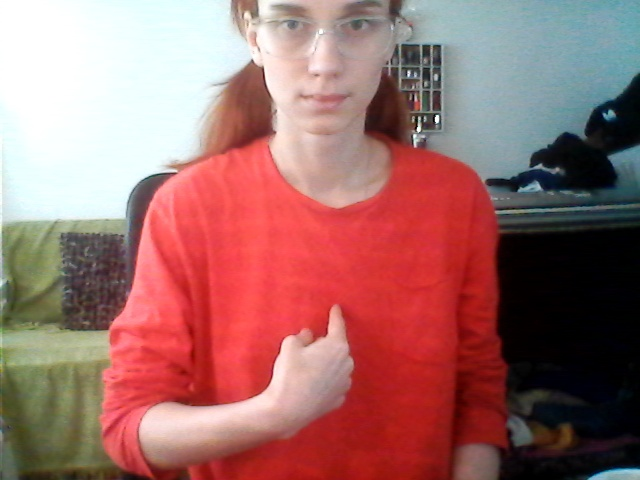ja: (221, 289, 387, 450)
